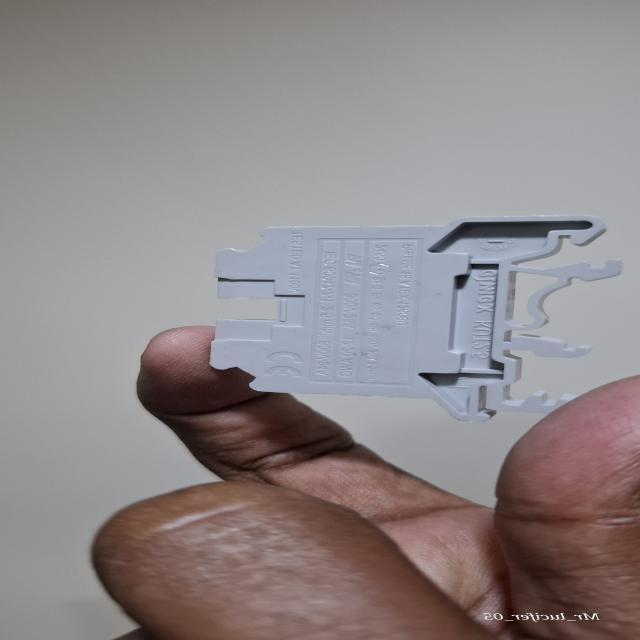Inverted: (201, 213, 634, 414)
